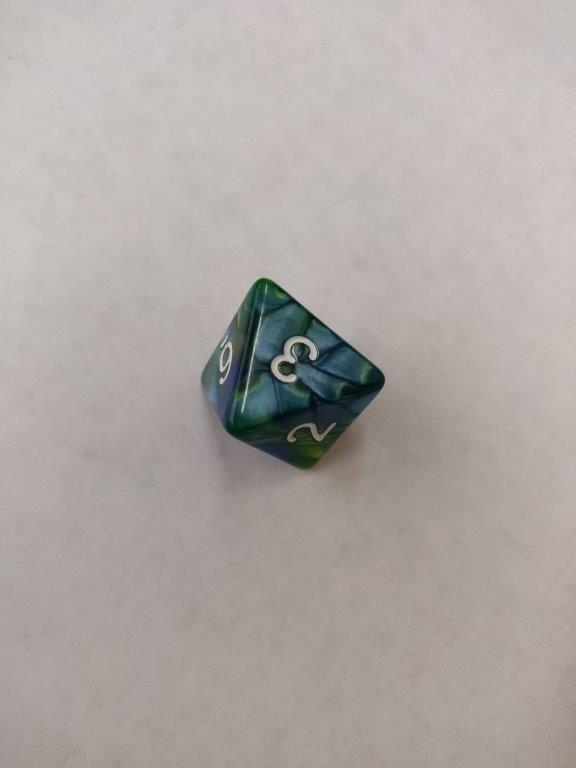d8-3: (201, 271, 388, 472)
